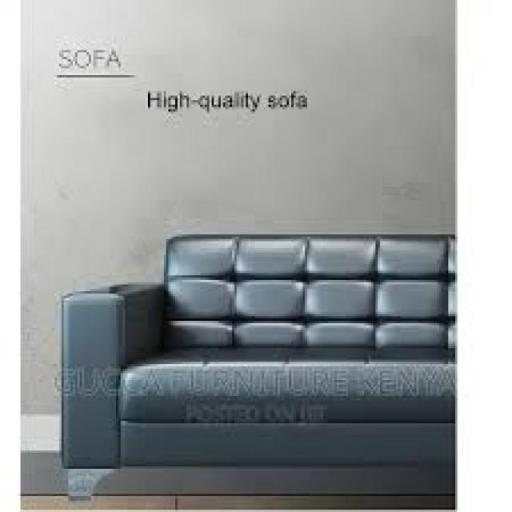sofa: (34, 219, 458, 511)
